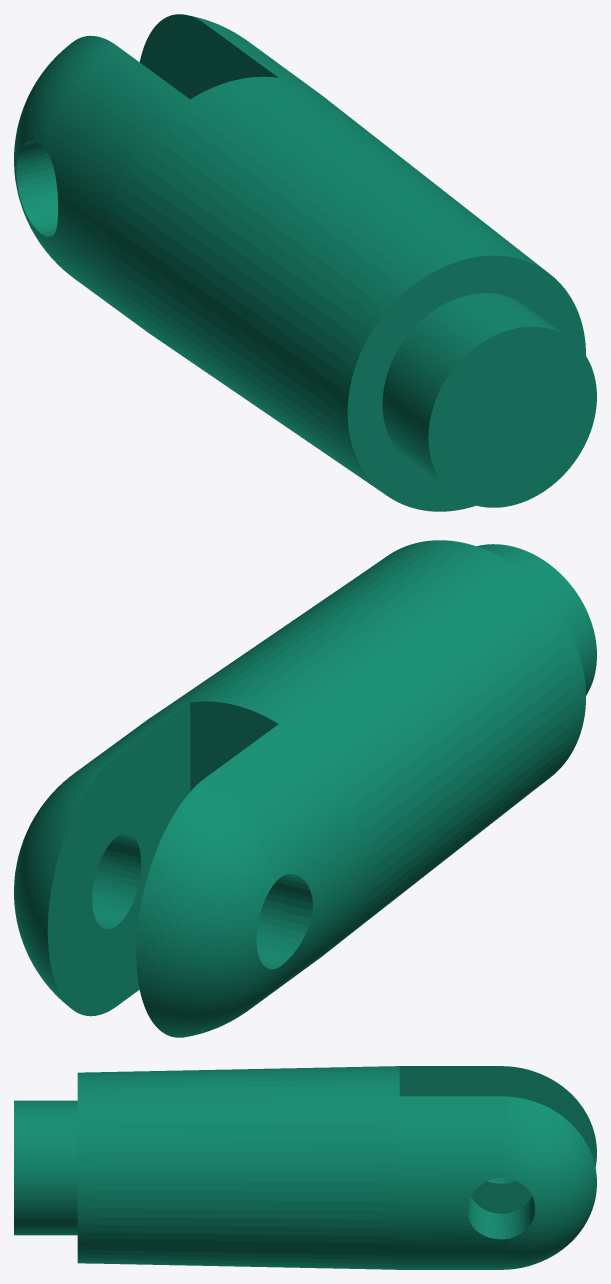
3 renders of one model, top to bottom at view 1: azimuth 30°, elevation 25°; view 2: azimuth 150°, elevation 25°; view 3: azimuth 270°, elevation 25°, orthographic. The views are drawn at different scales.
Visible parts, largest first — view 1: node; view 2: node; view 3: node.
Part boxes in pixels (bbox=[...]): node: bbox=[14, 14, 596, 511]; node: bbox=[14, 540, 596, 1037]; node: bbox=[14, 1066, 596, 1269].
Size of the model in its own units: 0.0475 by 0.0475 by 0.1358.
